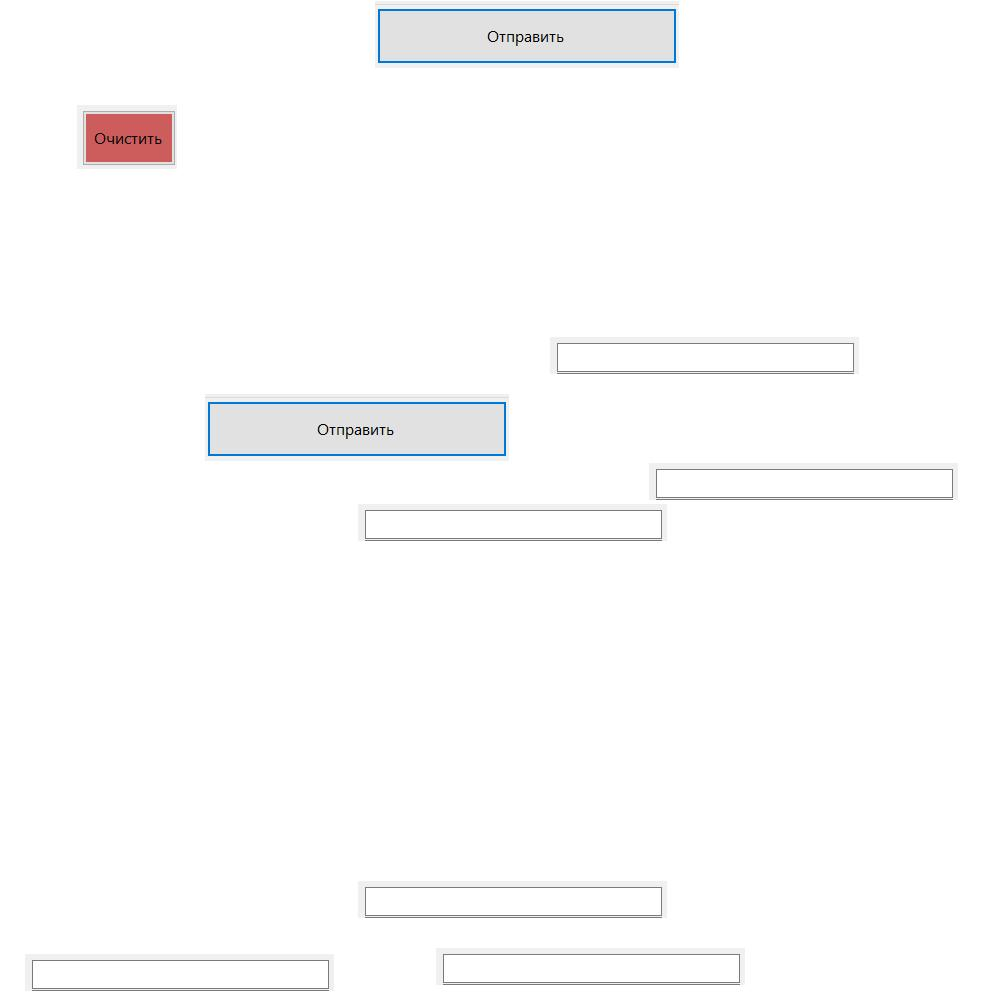Button: (205, 394, 509, 461), (375, 1, 679, 68), (77, 105, 177, 169)
EditText-: (358, 881, 667, 918), (358, 504, 667, 541), (25, 954, 334, 991), (649, 463, 958, 500), (550, 337, 859, 374), (436, 948, 745, 985)
